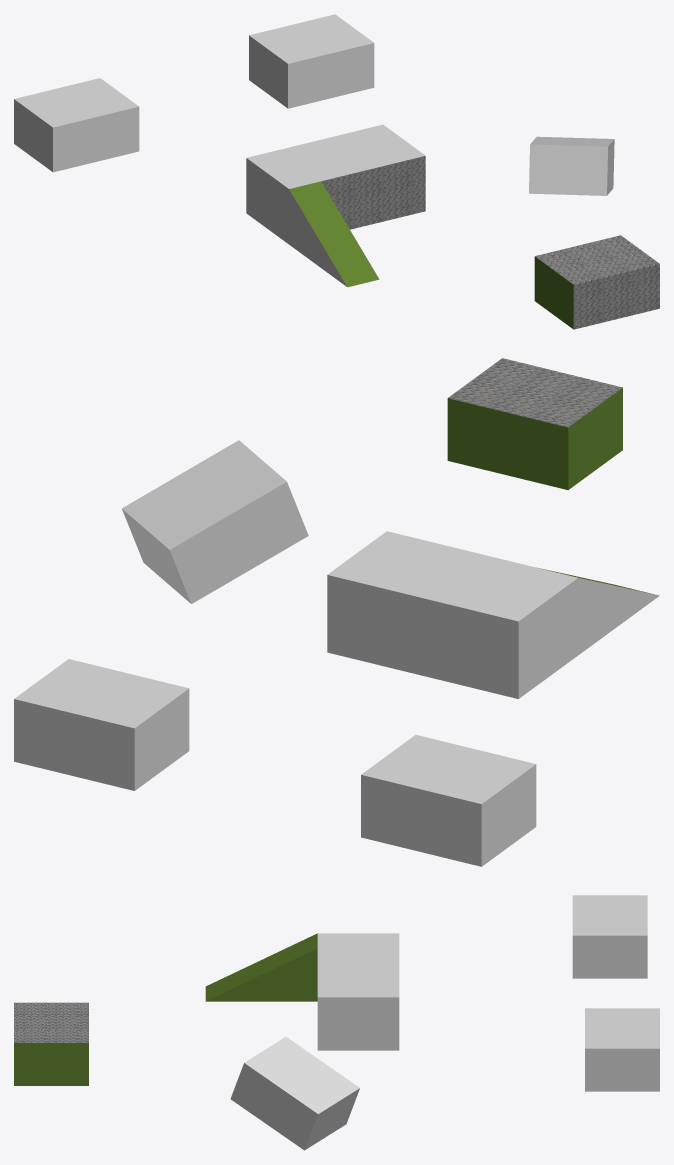
The model's file is test_sketch.dae.
The picture shows the model from 3 angles, top to bottom: view 1: azimuth 30°, elevation 25°; view 2: azimuth 150°, elevation 25°; view 3: azimuth 270°, elevation 25°; orthographic projection. The views are drawn at different scales.
Parts seen in each view (by area): view 1: SketchUp (×3), CubeComponent (×2), CubeComponentMulti (×2), TestGroup; view 2: CubeComponent (×2), SketchUp, TestGroup, CubeComponentMulti (×2); view 3: SketchUp (×2), CubeComponent (×2), TestGroup, CubeComponentMulti (×2).
Part boxes in pixels (<box>): SketchUp (×3): <box>246,124,425,287</box>; CubeComponent (×2): <box>14,14,374,172</box>; CubeComponentMulti (×2): <box>534,235,659,329</box>; TestGroup: <box>529,136,614,195</box>; CubeComponent (×2): <box>14,659,536,866</box>; SketchUp: <box>327,531,659,698</box>; TestGroup: <box>122,440,308,603</box>; CubeComponentMulti (×2): <box>447,358,622,489</box>; SketchUp (×2): <box>205,933,399,1050</box>; CubeComponent (×2): <box>572,895,659,1091</box>; TestGroup: <box>230,1037,359,1150</box>; CubeComponentMulti (×2): <box>14,1002,88,1085</box>.
Size of the model in its own units: 711 by 967 by 116.
